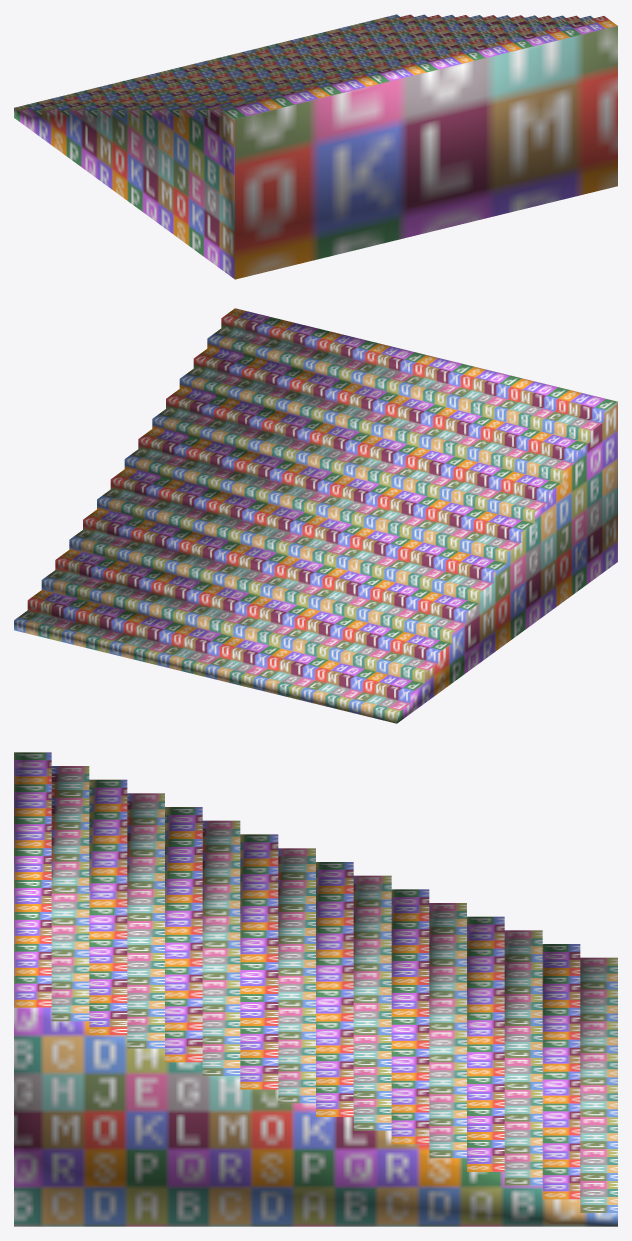
Rendered from stairs_low.obj.
The picture shows the model from 3 angles, top to bottom: view 1: azimuth 30°, elevation 25°; view 2: azimuth 150°, elevation 25°; view 3: azimuth 270°, elevation 25°; orthographic projection. The views are drawn at different scales.
Parts seen in each view (by area): view 1: cube1; view 2: cube1; view 3: cube1.
Boxes of the visible parts, x1,y1,x2,y2 form: cube1: [14, 14, 617, 279]; cube1: [14, 308, 617, 723]; cube1: [14, 752, 617, 1226].
Size of the model in its own units: 10 by 4 by 10.
1 material, 1 textured.
